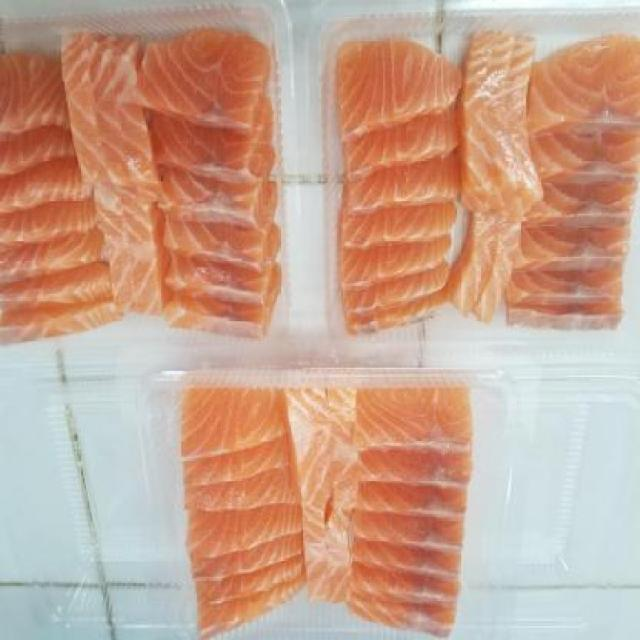salmon: (326, 26, 639, 342), (2, 20, 286, 352), (169, 380, 468, 639)
